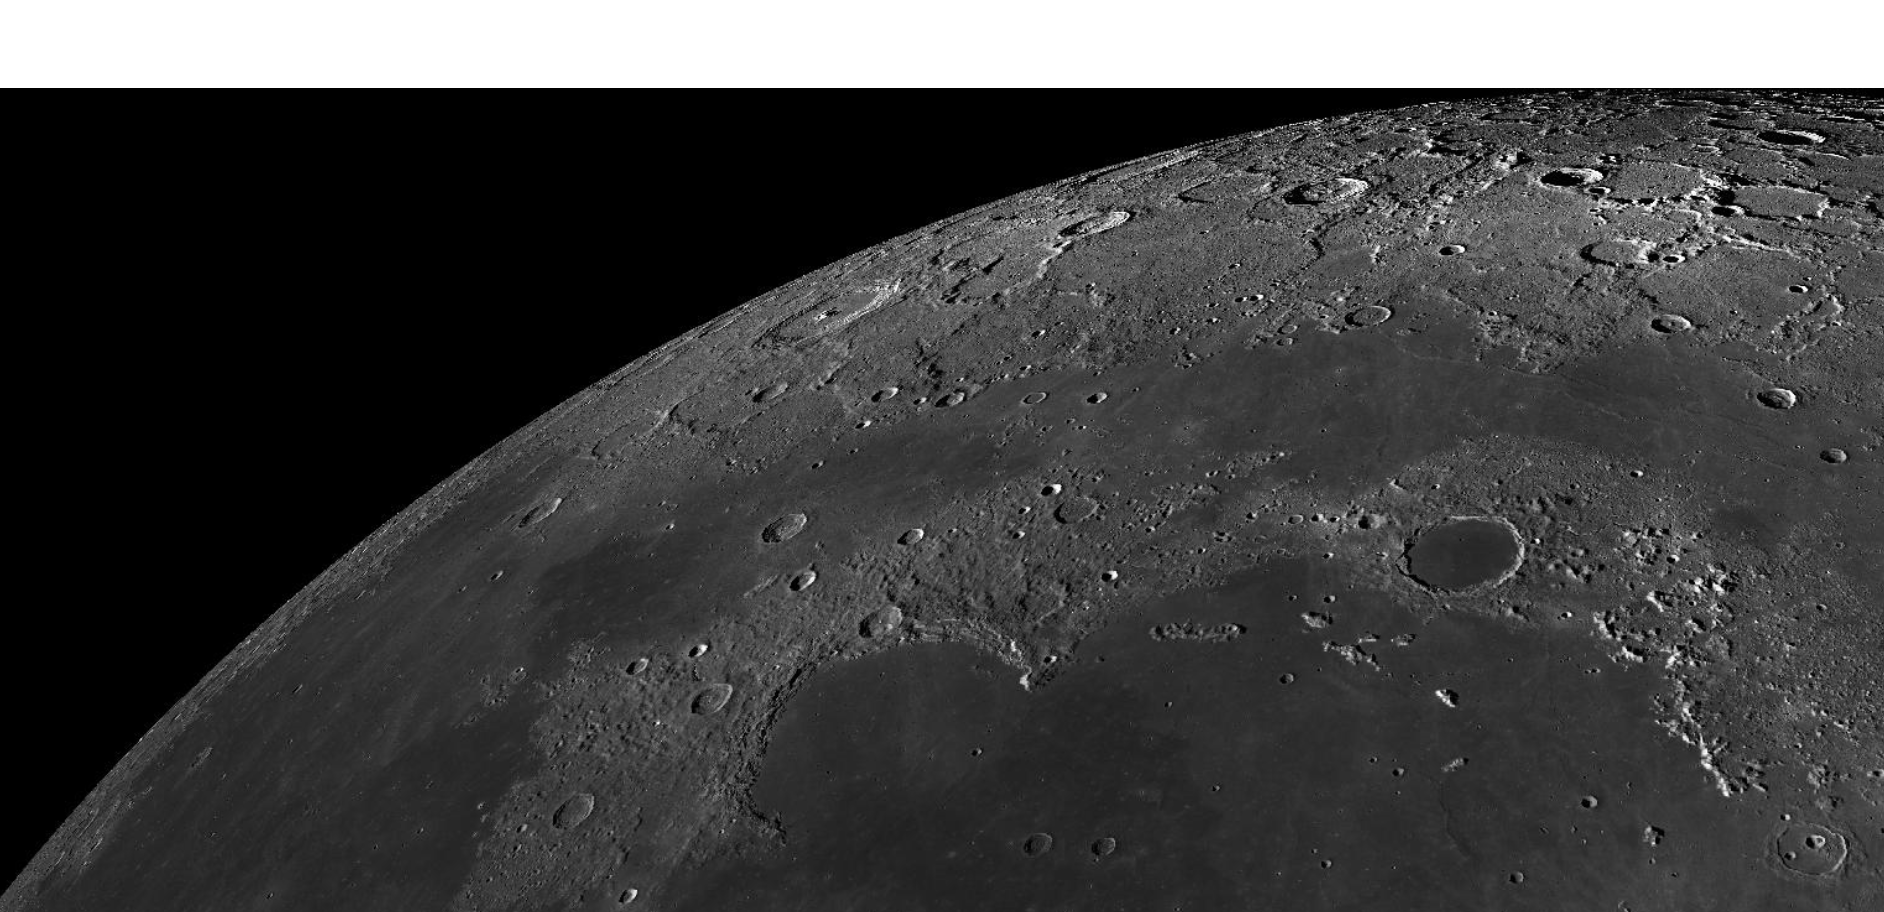crater: (1390, 484, 1554, 626), (954, 788, 1087, 880), (524, 774, 642, 863), (1262, 165, 1406, 236), (572, 398, 691, 478), (1071, 801, 1179, 884), (1039, 196, 1151, 260), (737, 495, 836, 555), (1735, 111, 1836, 169), (1061, 380, 1157, 441), (509, 485, 588, 554), (1791, 428, 1860, 503), (1557, 765, 1620, 833), (1536, 151, 1612, 202), (1340, 291, 1399, 341), (1646, 304, 1713, 342), (886, 511, 928, 554), (861, 378, 902, 409)
